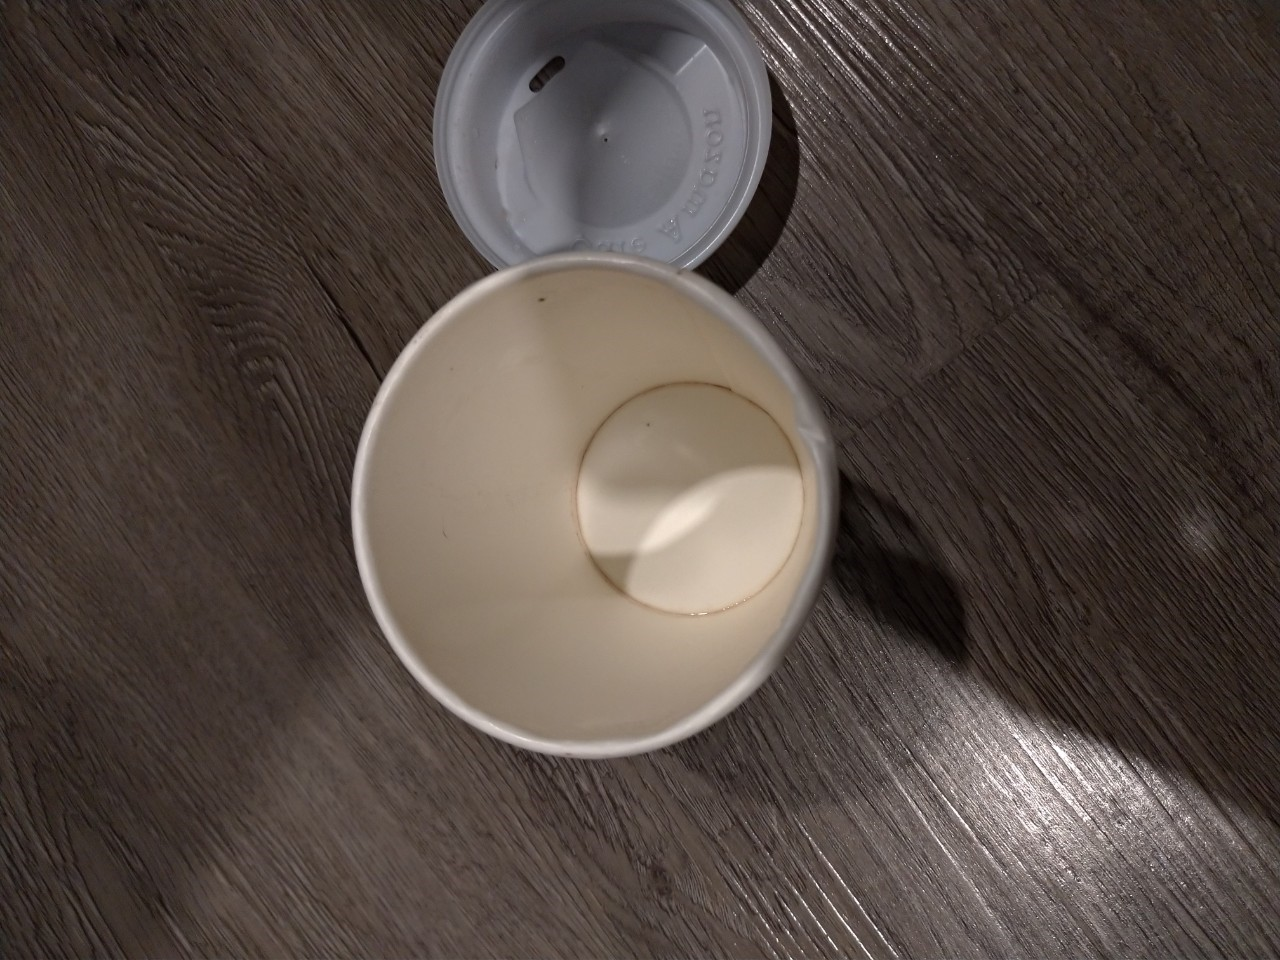PaperCup: (348, 256, 833, 762)
